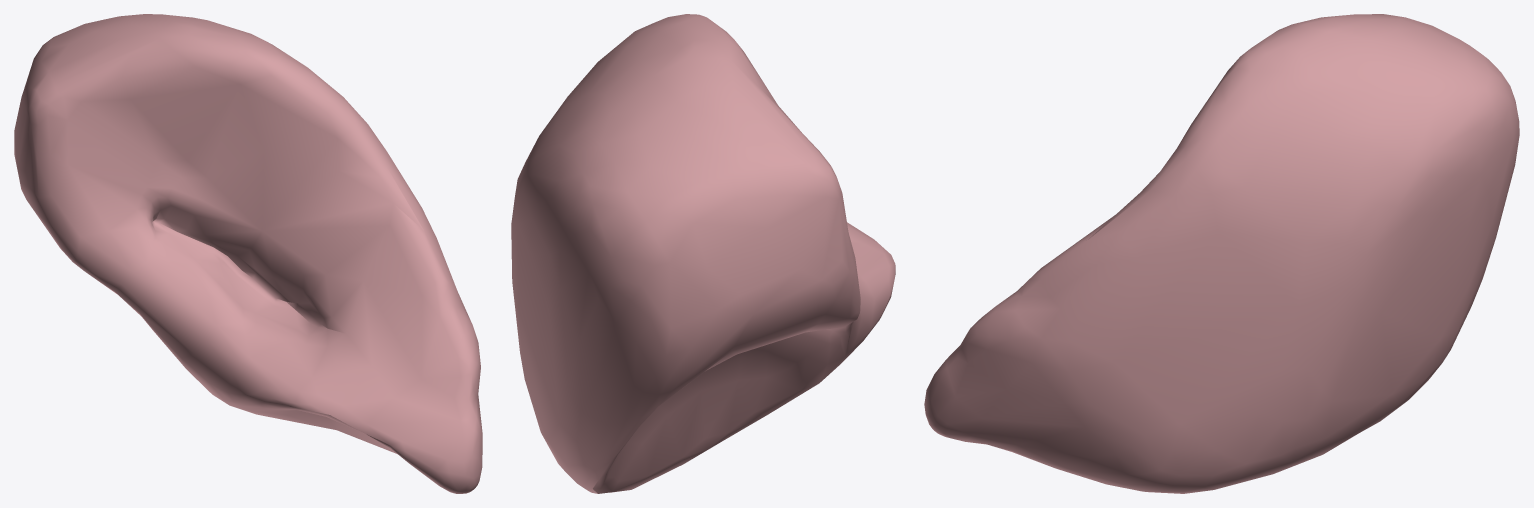
The model's file is fma7196_fj2561.glb.
3 views of the same model, side by side, from view 1: azimuth 30°, elevation 25°; view 2: azimuth 150°, elevation 25°; view 3: azimuth 270°, elevation 25° (orthographic). The views are drawn at different scales.
Parts seen in each view (by area): view 1: FMA7196_FJ2561; view 2: FMA7196_FJ2561; view 3: FMA7196_FJ2561.
Part boxes in pixels (x1=…): FMA7196_FJ2561: x1=14, y1=14, x2=482, y2=493; FMA7196_FJ2561: x1=511, y1=14, x2=895, y2=493; FMA7196_FJ2561: x1=924, y1=14, x2=1519, y2=493.
Size of the model in its own units: 0.0582 by 0.0702 by 0.0951.
